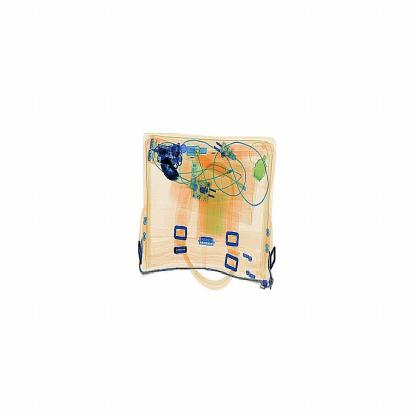scissors: (156, 153, 188, 189)
